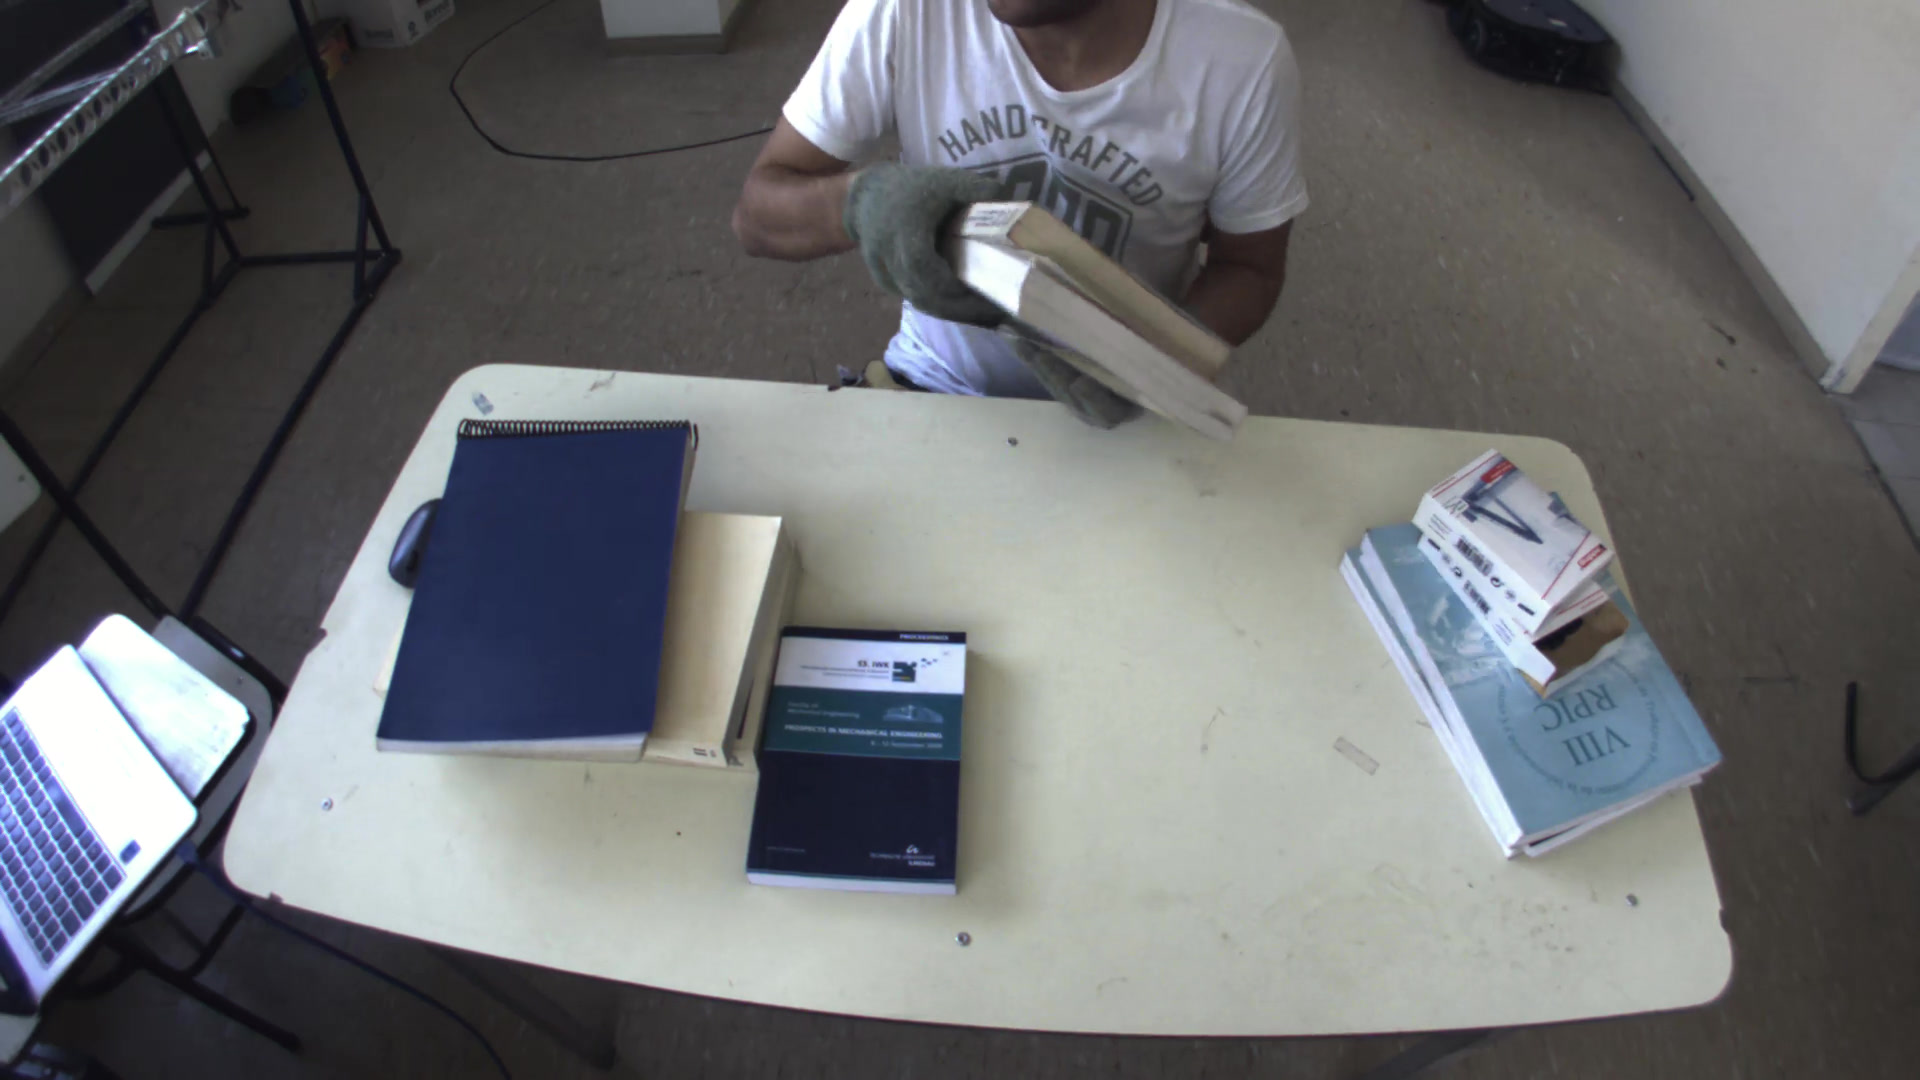hand: (835, 152, 1006, 298)
